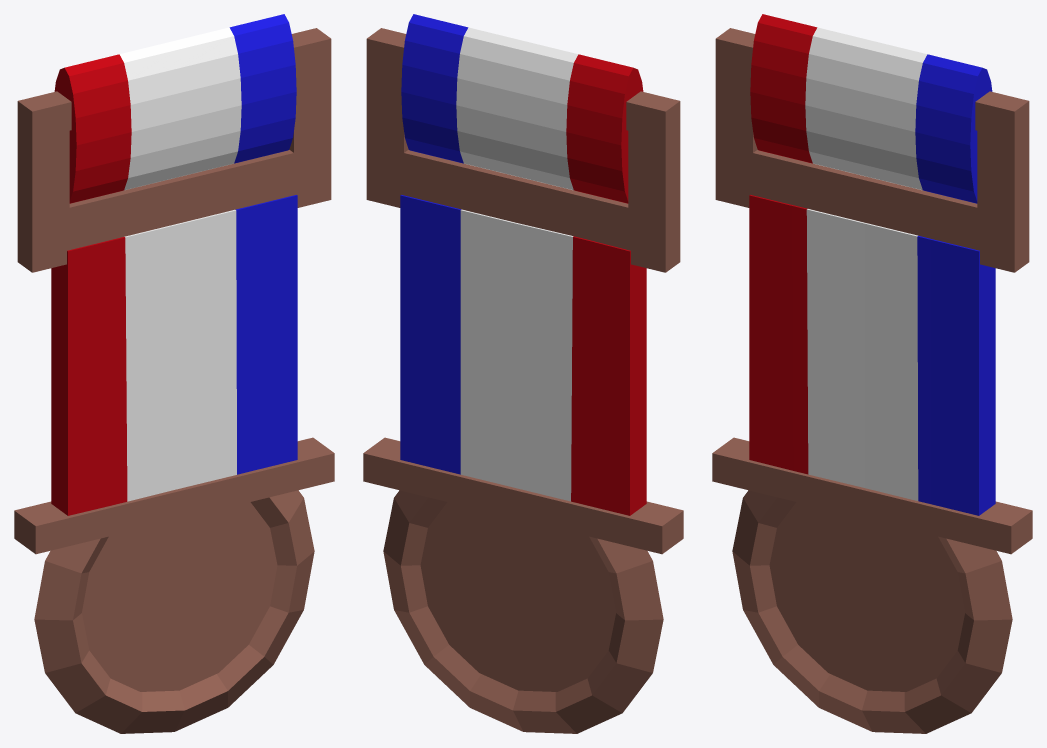
The model's file is TigerGameWarMedalTextured2.fbx.
The picture shows the model from 3 angles, left to right: view 1: azimuth 30°, elevation 25°; view 2: azimuth 150°, elevation 25°; view 3: azimuth 330°, elevation 25°; orthographic projection.
Parts seen in each view (by area): view 1: Torus; view 2: Torus; view 3: Torus.
Boxes of the visible parts, bbox=[...] form: Torus: bbox=[14, 14, 334, 733]; Torus: bbox=[363, 14, 683, 733]; Torus: bbox=[712, 14, 1032, 733].
Bounding box in the file's own units: 200 × 442 × 28.11.
